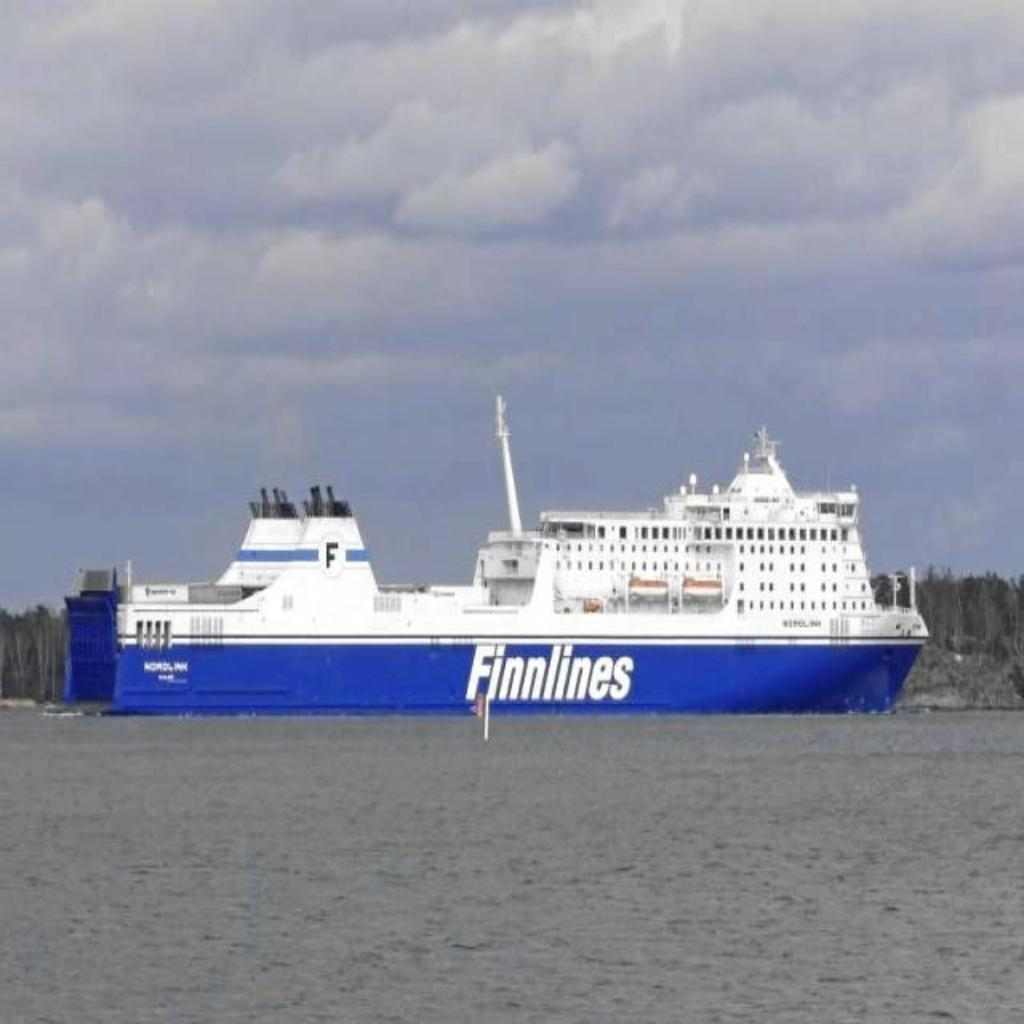PassengerShip: (58, 387, 932, 731)
